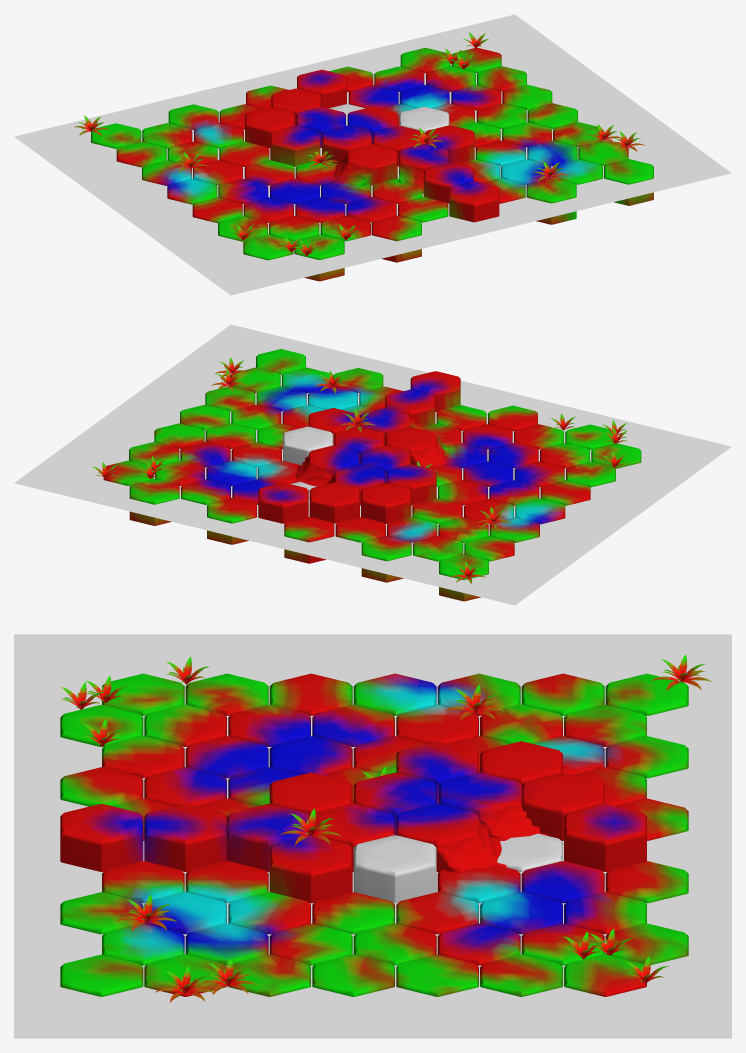
File: Field_Test2.FBX
3 renders of one model, top to bottom at view 1: azimuth 30°, elevation 25°; view 2: azimuth 150°, elevation 25°; view 3: azimuth 270°, elevation 25°, orthographic. The views are drawn at different scales.
Parts seen in each view (by area): view 1: Plane001, Object026, Object035, Object029, Object037, Object036, Object031, Object041, Object049, Object021, Object057, Object046 (+57 smaller); view 2: Plane001, Object041, Object032, Object031, Object026, Object039, Object035, Object029, Object020, HexTile007, Object045, Object034 (+57 smaller); view 3: Plane001, Object035, Object045, Object036, Object041, Object046, Object039, Object030, Object037, Object032, Object057, Object062 (+61 smaller).
Boxes of the visible parts, bbox=[...] form: Plane001: bbox=[14, 14, 731, 295]; Object026: bbox=[331, 144, 397, 185]; Object035: bbox=[449, 181, 499, 222]; Object029: bbox=[270, 125, 320, 166]; Object037: bbox=[399, 144, 448, 193]; Object036: bbox=[423, 162, 473, 203]; Object031: bbox=[245, 107, 294, 148]; Object041: bbox=[297, 69, 346, 108]; Object049: bbox=[526, 178, 576, 224]; Object021: bbox=[371, 215, 421, 262]; Object057: bbox=[604, 159, 653, 205]; Object046: bbox=[425, 125, 474, 163]; Plane001: bbox=[14, 324, 731, 605]; Object041: bbox=[258, 482, 308, 523]; Object032: bbox=[309, 482, 359, 523]; Object031: bbox=[361, 483, 411, 523]; Object026: bbox=[385, 427, 452, 467]; Object039: bbox=[292, 445, 359, 486]; Object035: bbox=[410, 371, 460, 412]; Object029: bbox=[386, 464, 436, 505]; Object020: bbox=[361, 535, 411, 582]; HexTile007: bbox=[129, 479, 179, 525]; Object045: bbox=[283, 426, 333, 465]; Object034: bbox=[284, 517, 334, 563]; Plane001: bbox=[14, 634, 731, 1038]; Object035: bbox=[60, 804, 143, 871]; Object045: bbox=[353, 835, 436, 903]; Object036: bbox=[144, 804, 226, 871]; Object041: bbox=[564, 804, 646, 871]; Object046: bbox=[269, 835, 352, 903]; Object039: bbox=[396, 803, 506, 872]; Object030: bbox=[439, 772, 548, 841]; Object037: bbox=[226, 804, 309, 872]; Object032: bbox=[521, 772, 604, 840]; Object057: bbox=[60, 954, 143, 996]; Object062: bbox=[312, 954, 394, 996].
Bounding box in the file's own units: 20 × 1.86 × 15.
